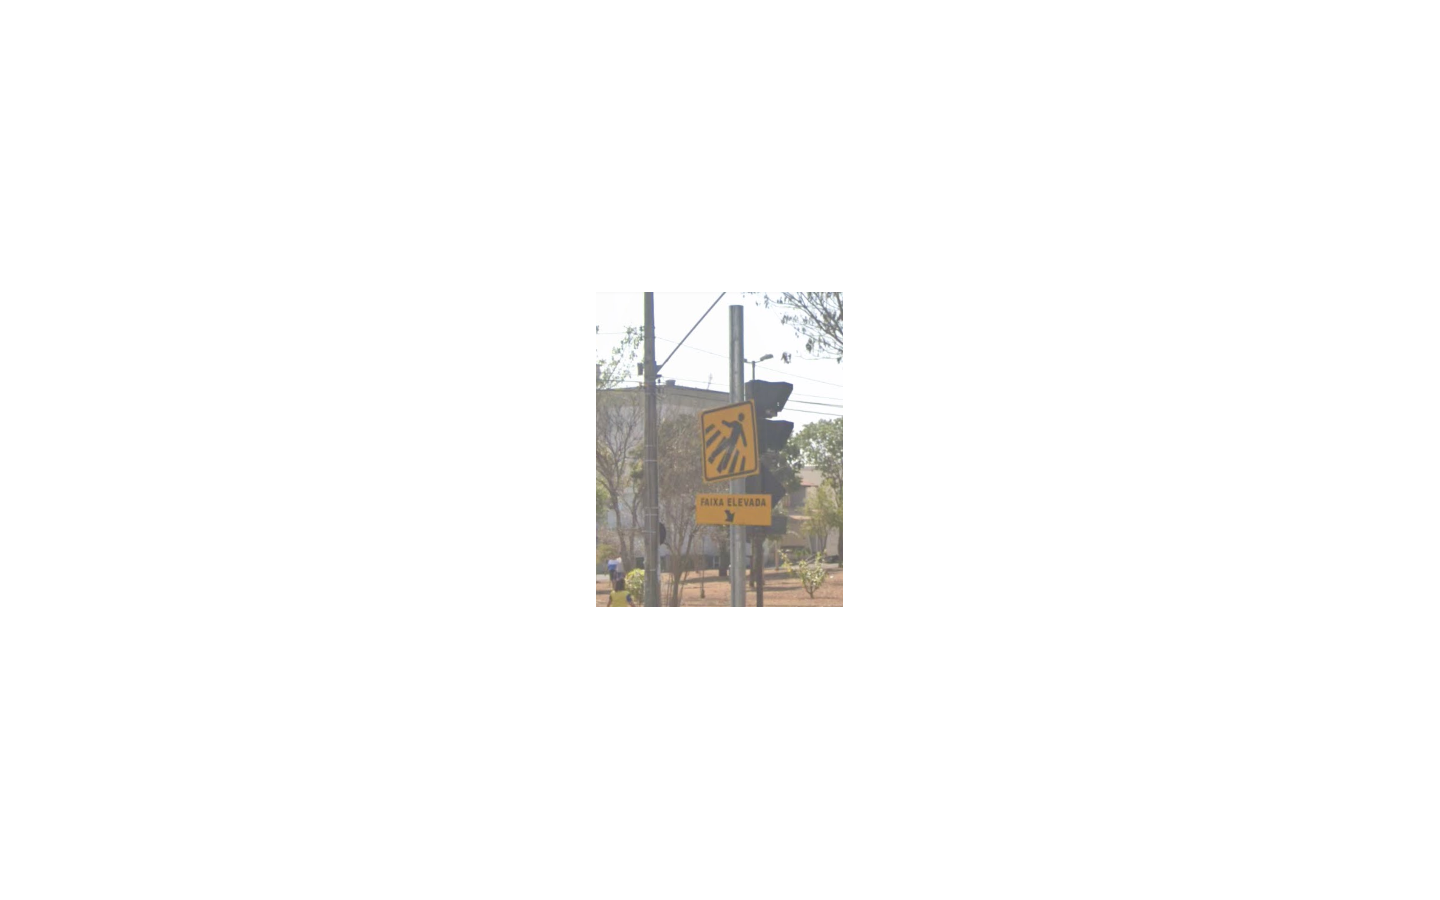telev: (695, 400, 772, 525)
